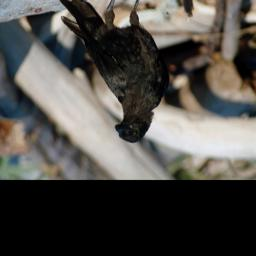Crow: (58, 0, 172, 145)
